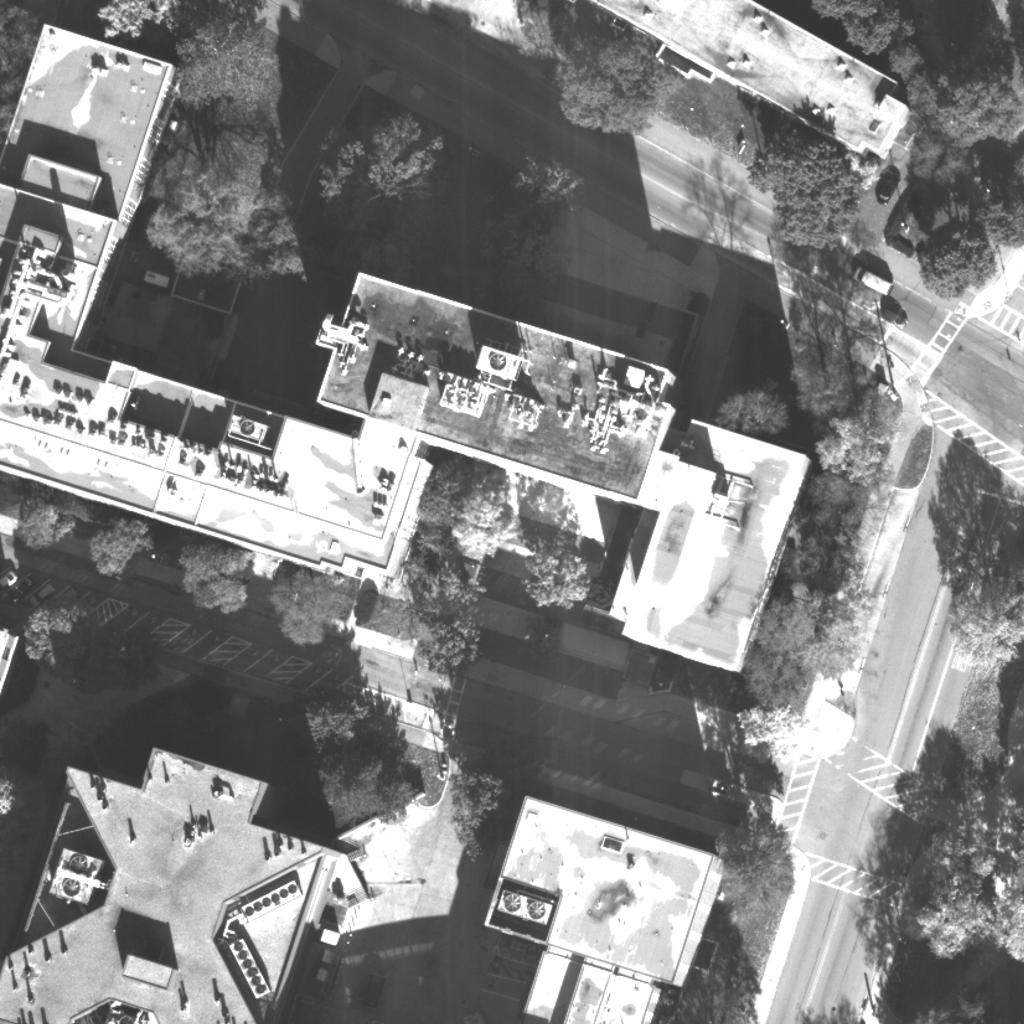car: (871, 167, 905, 201), (851, 262, 885, 296), (6, 568, 40, 602), (26, 573, 60, 607), (0, 563, 20, 597)
